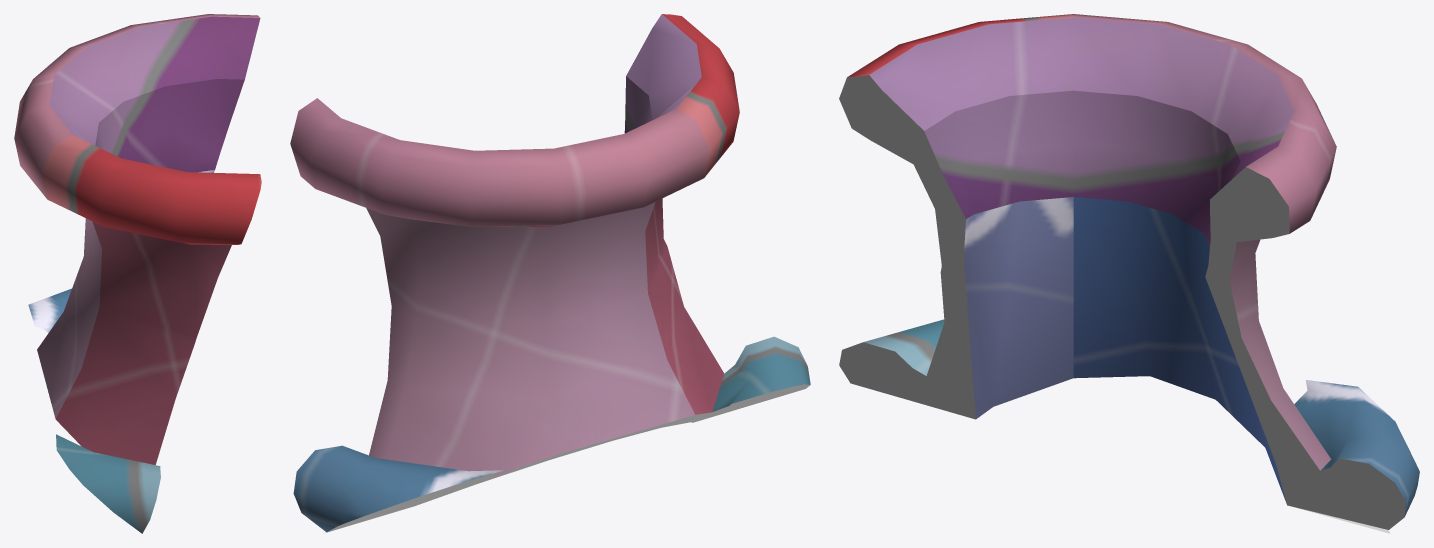
Rendered from LargeVase_SHAT_cell_006.fbx.
3 views of the same model, side by side, from view 1: azimuth 30°, elevation 25°; view 2: azimuth 150°, elevation 25°; view 3: azimuth 270°, elevation 25° (orthographic). The views are drawn at different scales.
Parts seen in each view (by area): view 1: LargeVase_SHAT_cell_006; view 2: LargeVase_SHAT_cell_006; view 3: LargeVase_SHAT_cell_006.
Part boxes in pixels (bbox=[...]): LargeVase_SHAT_cell_006: bbox=[14, 14, 261, 533]; LargeVase_SHAT_cell_006: bbox=[290, 14, 810, 532]; LargeVase_SHAT_cell_006: bbox=[839, 14, 1419, 533].
Size of the model in its own units: 0.4972 by 0.5049 by 0.6563.
Materials: 2 (1 with a texture image).
